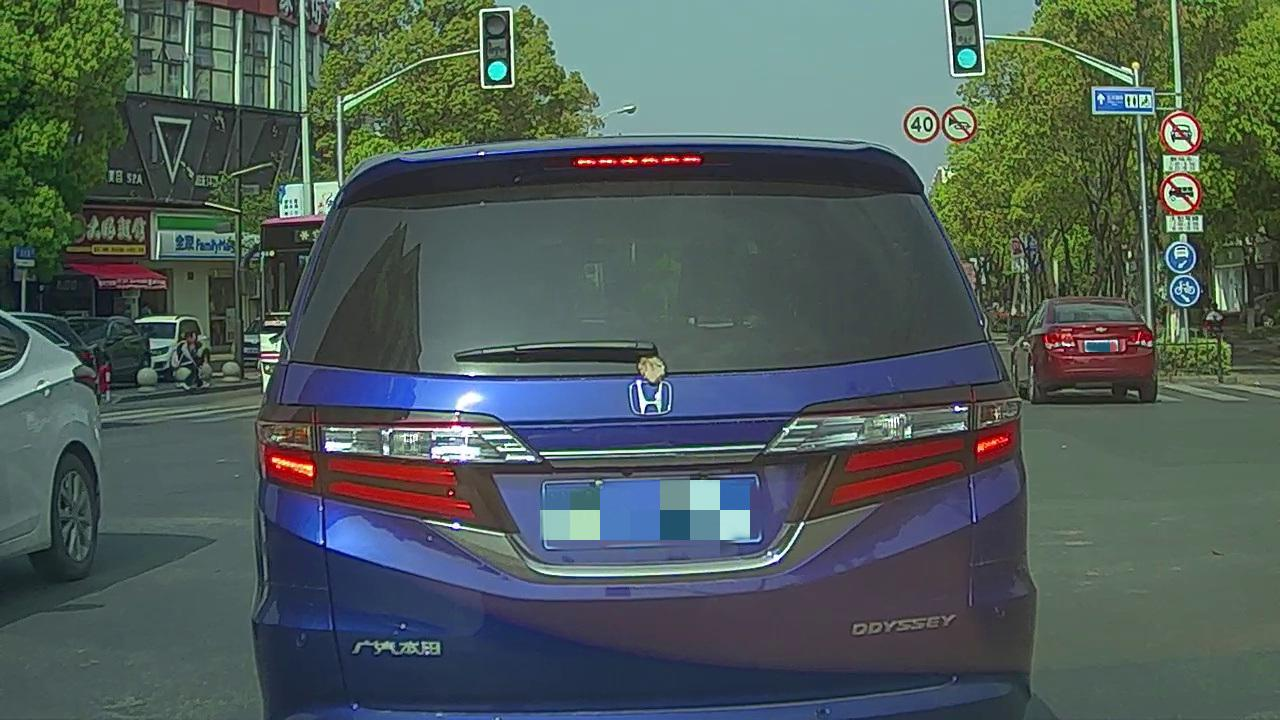traffic_light: (947, 1, 984, 75), (482, 11, 512, 88)
